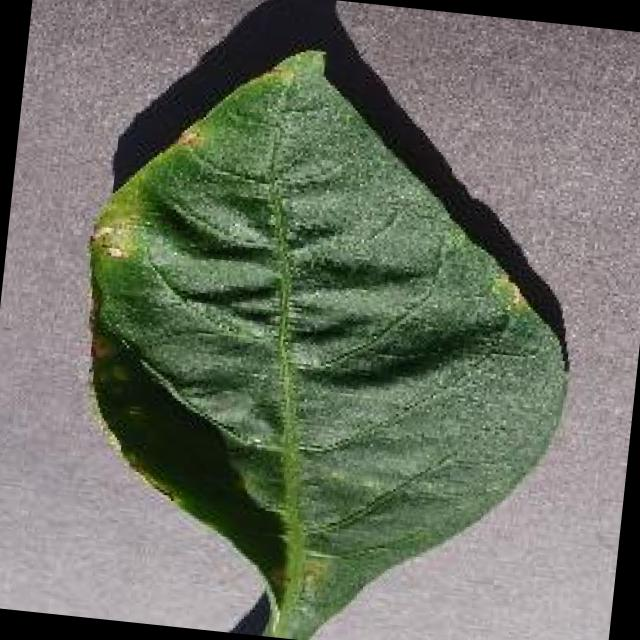Chilli_Bacterial_Spot: (45, 23, 601, 640), (264, 40, 328, 90), (84, 216, 140, 268), (482, 270, 534, 320), (168, 121, 210, 158), (84, 331, 118, 364), (102, 355, 135, 388), (98, 239, 130, 265)
